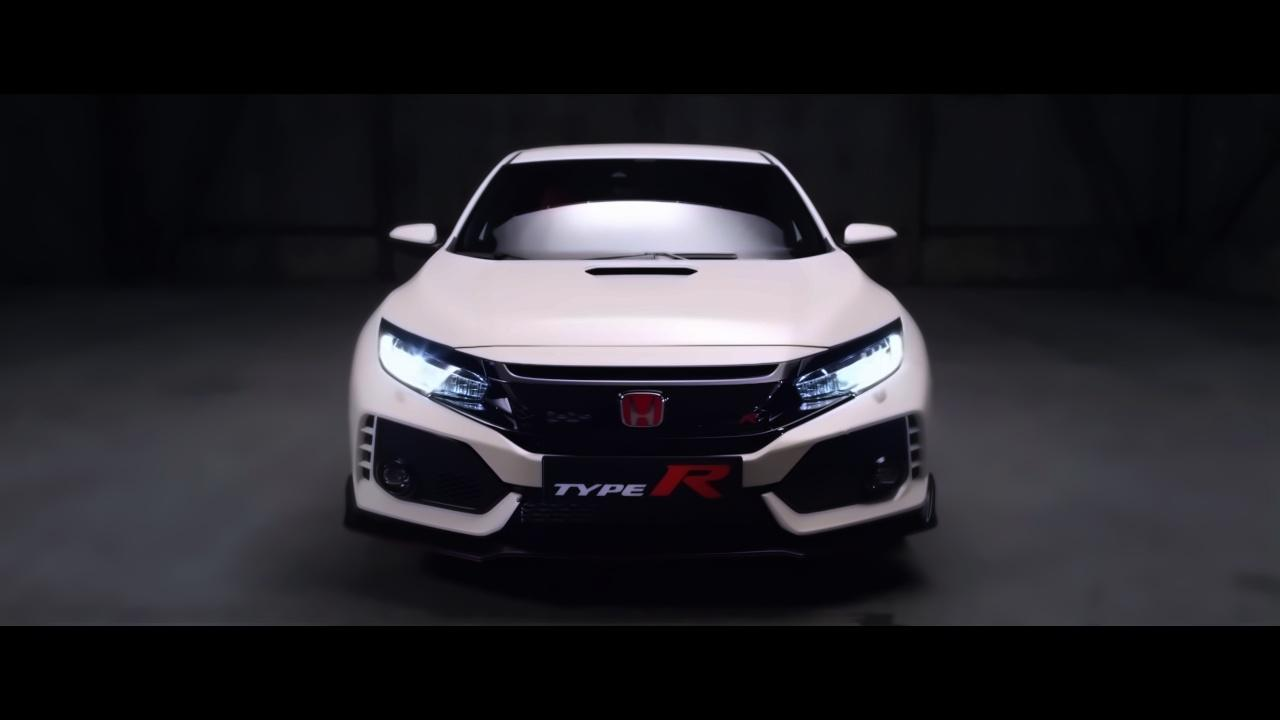Car hood: (376, 248, 902, 373)
Front bumper: (335, 374, 953, 562)
Headlight - -L-: (786, 311, 909, 417)
Headlight - -R-: (369, 314, 523, 437)
Side mirror - -L-: (840, 215, 906, 267)
Side mirror - -R-: (383, 215, 448, 263)
